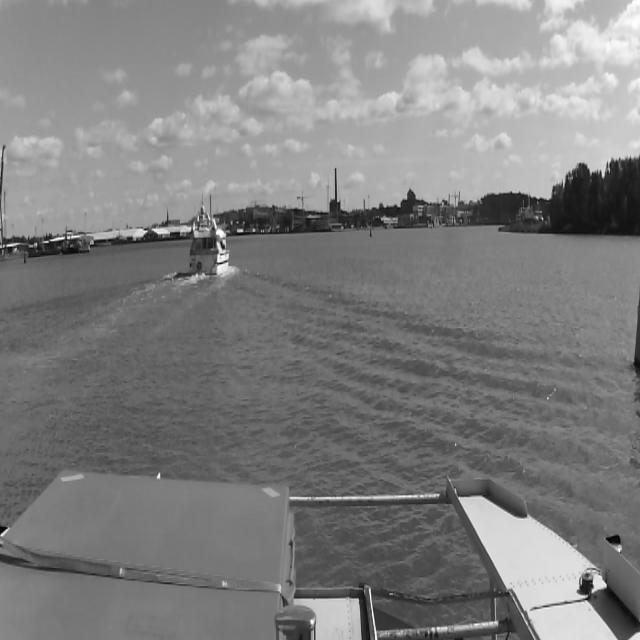buoy: (366, 223, 372, 237)
ship: (189, 198, 230, 276)
